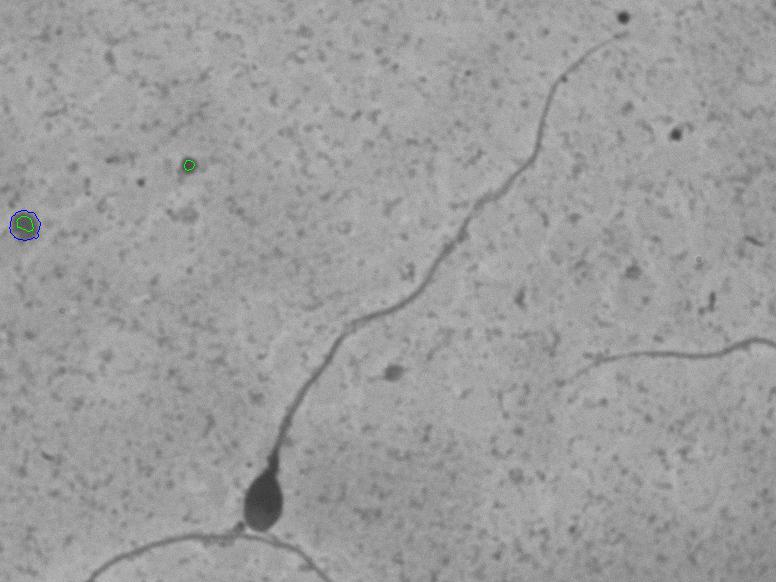Normal: (218, 7, 636, 539)
